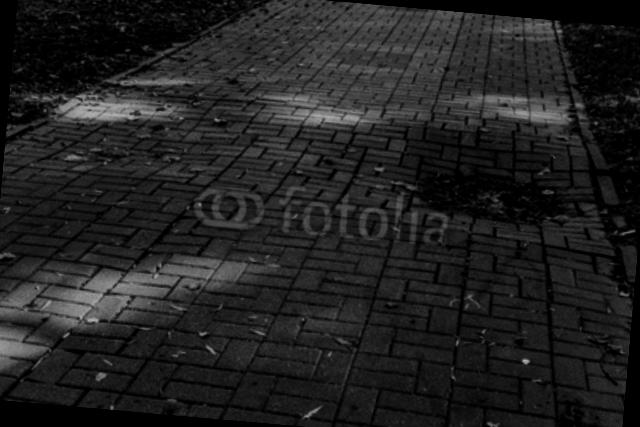Pothole: (402, 122, 602, 252)
